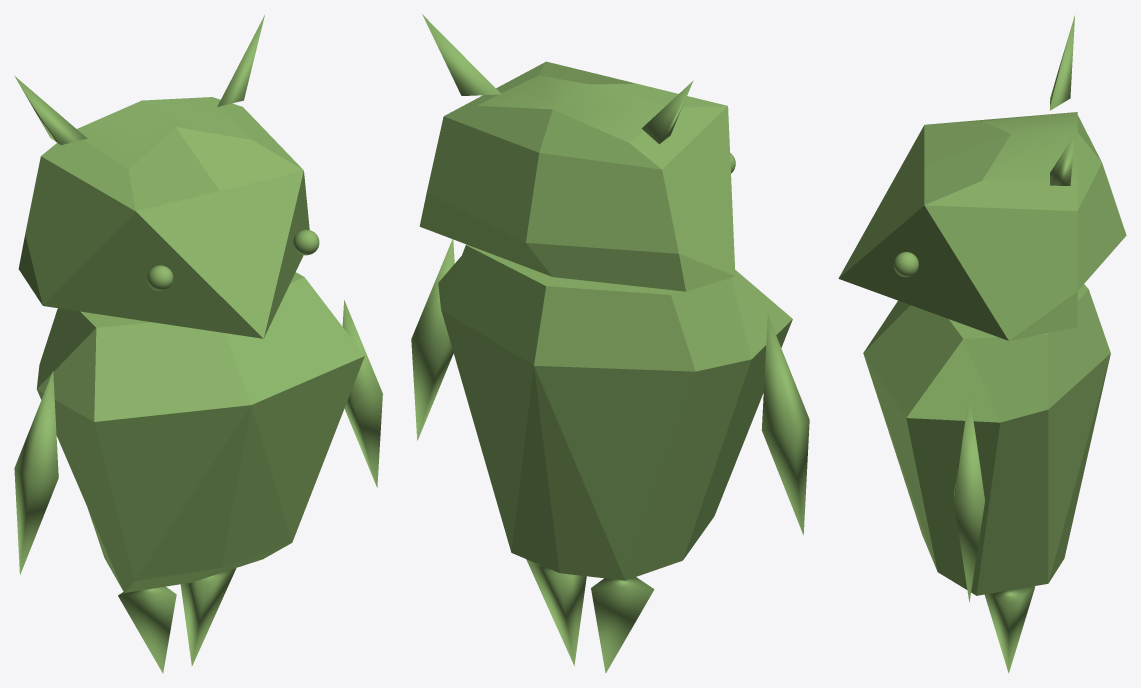
The model's file is internaut_green.glb.
3 views of the same model, side by side, from view 1: azimuth 30°, elevation 25°; view 2: azimuth 150°, elevation 25°; view 3: azimuth 270°, elevation 25° (orthographic). The views are drawn at different scales.
Visible parts, largest first — view 1: mesh_id5, mesh_id4, mesh_id7, mesh_id6, mesh_id9, mesh_id8, mesh_id10, mesh_id11, mesh_id13, mesh_id12; view 2: mesh_id5, mesh_id4, mesh_id7, mesh_id6, mesh_id9, mesh_id8, mesh_id11, mesh_id10; view 3: mesh_id5, mesh_id4, mesh_id6, mesh_id8, mesh_id10, mesh_id11, mesh_id13.
Part boxes in pixels (left/top/right/bottom): mesh_id5: left=36, top=272, right=364, bottom=592; mesh_id4: left=18, top=97, right=309, bottom=338; mesh_id7: left=14, top=371, right=58, bottom=574; mesh_id6: left=342, top=300, right=382, bottom=487; mesh_id9: left=118, top=586, right=176, bottom=673; mesh_id8: left=180, top=568, right=236, bottom=665; mesh_id10: left=14, top=75, right=87, bottom=144; mesh_id11: left=217, top=15, right=264, bottom=106; mesh_id13: left=293, top=229, right=319, bottom=255; mesh_id12: left=147, top=265, right=173, bottom=290; mesh_id5: left=438, top=244, right=792, bottom=580; mesh_id4: left=419, top=61, right=735, bottom=291; mesh_id7: left=761, top=314, right=809, bottom=535; mesh_id6: left=411, top=239, right=454, bottom=440; mesh_id9: left=591, top=577, right=654, bottom=673; mesh_id8: left=526, top=559, right=586, bottom=665; mesh_id11: left=422, top=14, right=501, bottom=95; mesh_id10: left=641, top=80, right=693, bottom=144; mesh_id5: left=863, top=284, right=1110, bottom=595; mesh_id4: left=838, top=112, right=1126, bottom=340; mesh_id6: left=954, top=394, right=984, bottom=602; mesh_id8: left=985, top=586, right=1035, bottom=673; mesh_id10: left=1050, top=15, right=1074, bottom=110; mesh_id11: left=1050, top=135, right=1074, bottom=185; mesh_id13: left=893, top=252, right=918, bottom=277.
Size of the model in its own units: 0.3181 by 0.512 by 0.2263.
10 materials, 10 textured.
